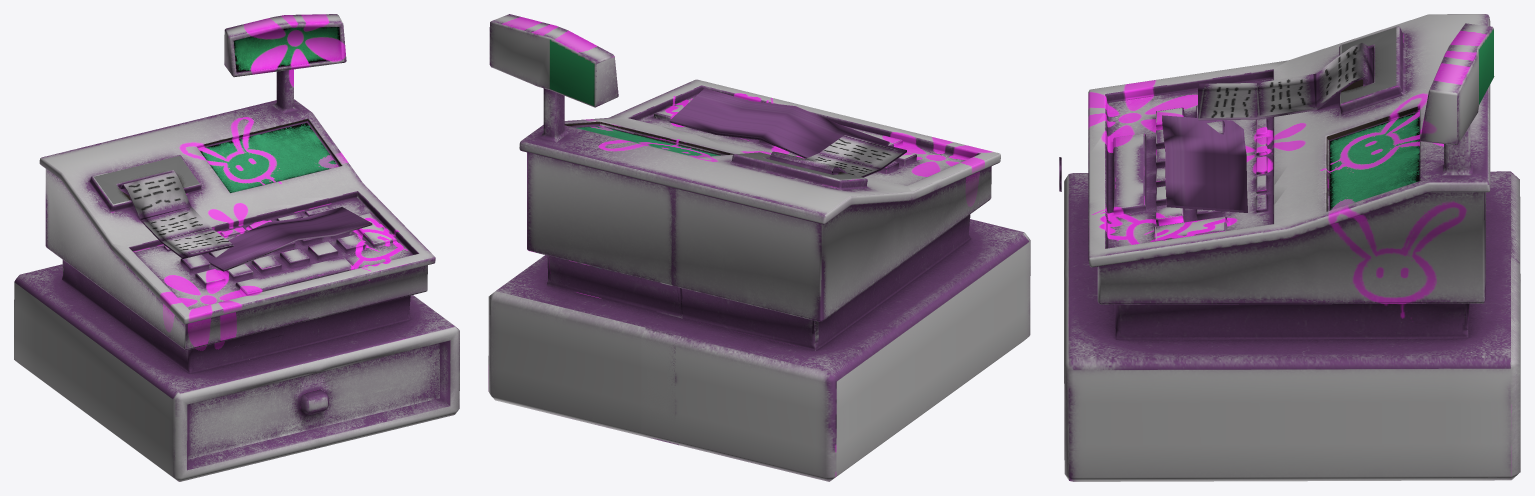
The model's file is CashRegister.glb.
3 views of the same model, side by side, from view 1: azimuth 30°, elevation 25°; view 2: azimuth 150°, elevation 25°; view 3: azimuth 270°, elevation 25° (orthographic). The views are drawn at different scales.
Visible parts, largest first — view 1: Cash Register; view 2: Cash Register; view 3: Cash Register.
Part boxes in pixels (left/top/right/bottom): Cash Register: left=14, top=14, right=459, bottom=481; Cash Register: left=488, top=14, right=1030, bottom=481; Cash Register: left=1059, top=14, right=1520, bottom=481.
Size of the model in its own units: 1.06 by 0.9967 by 1.01.
1 material, 1 textured.
